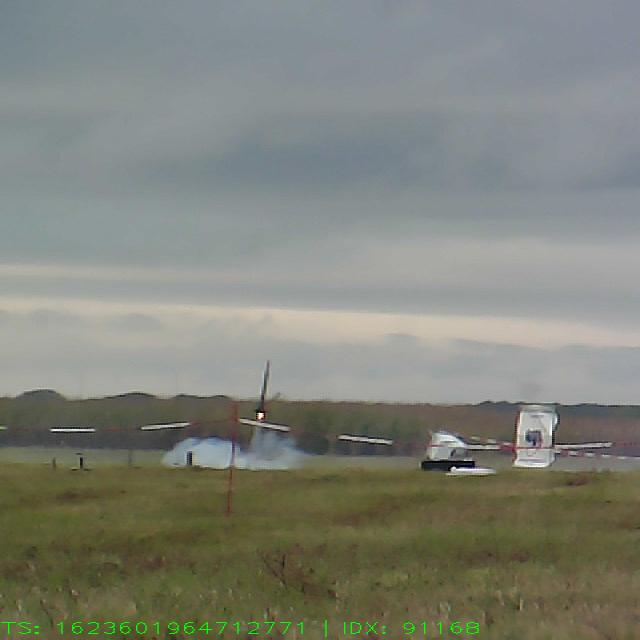Rocket: (254, 358, 271, 414)
